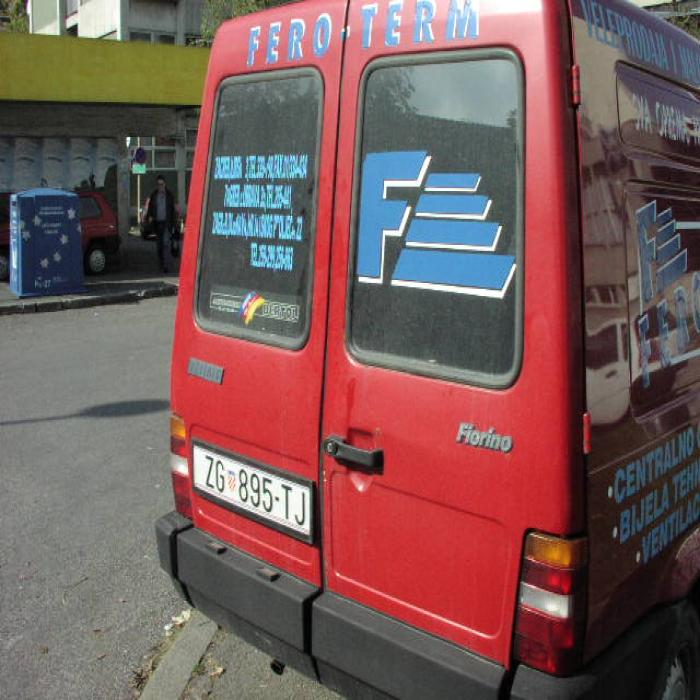number_plate: (192, 442, 310, 534)
